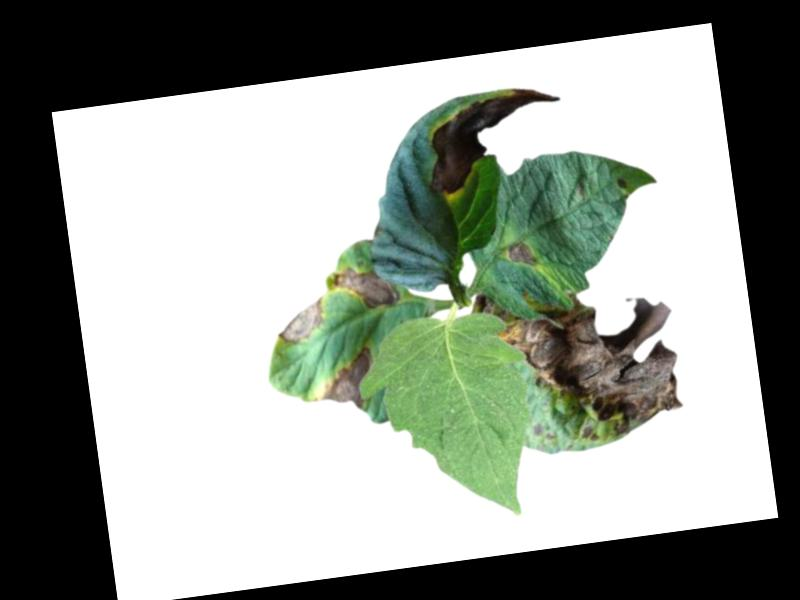Early_blight: (493, 280, 687, 453), (415, 83, 571, 200), (311, 345, 379, 415), (330, 261, 401, 318), (273, 295, 327, 348), (503, 240, 537, 269), (471, 291, 494, 318), (614, 178, 626, 191)
